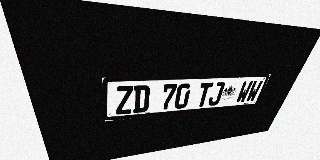0: (173, 83, 192, 109)
7: (159, 84, 177, 110)
D: (133, 85, 150, 113)
J: (207, 82, 226, 106)
T: (195, 82, 214, 107)
W: (235, 81, 253, 103), (245, 80, 263, 102)
Z: (115, 86, 133, 115)
